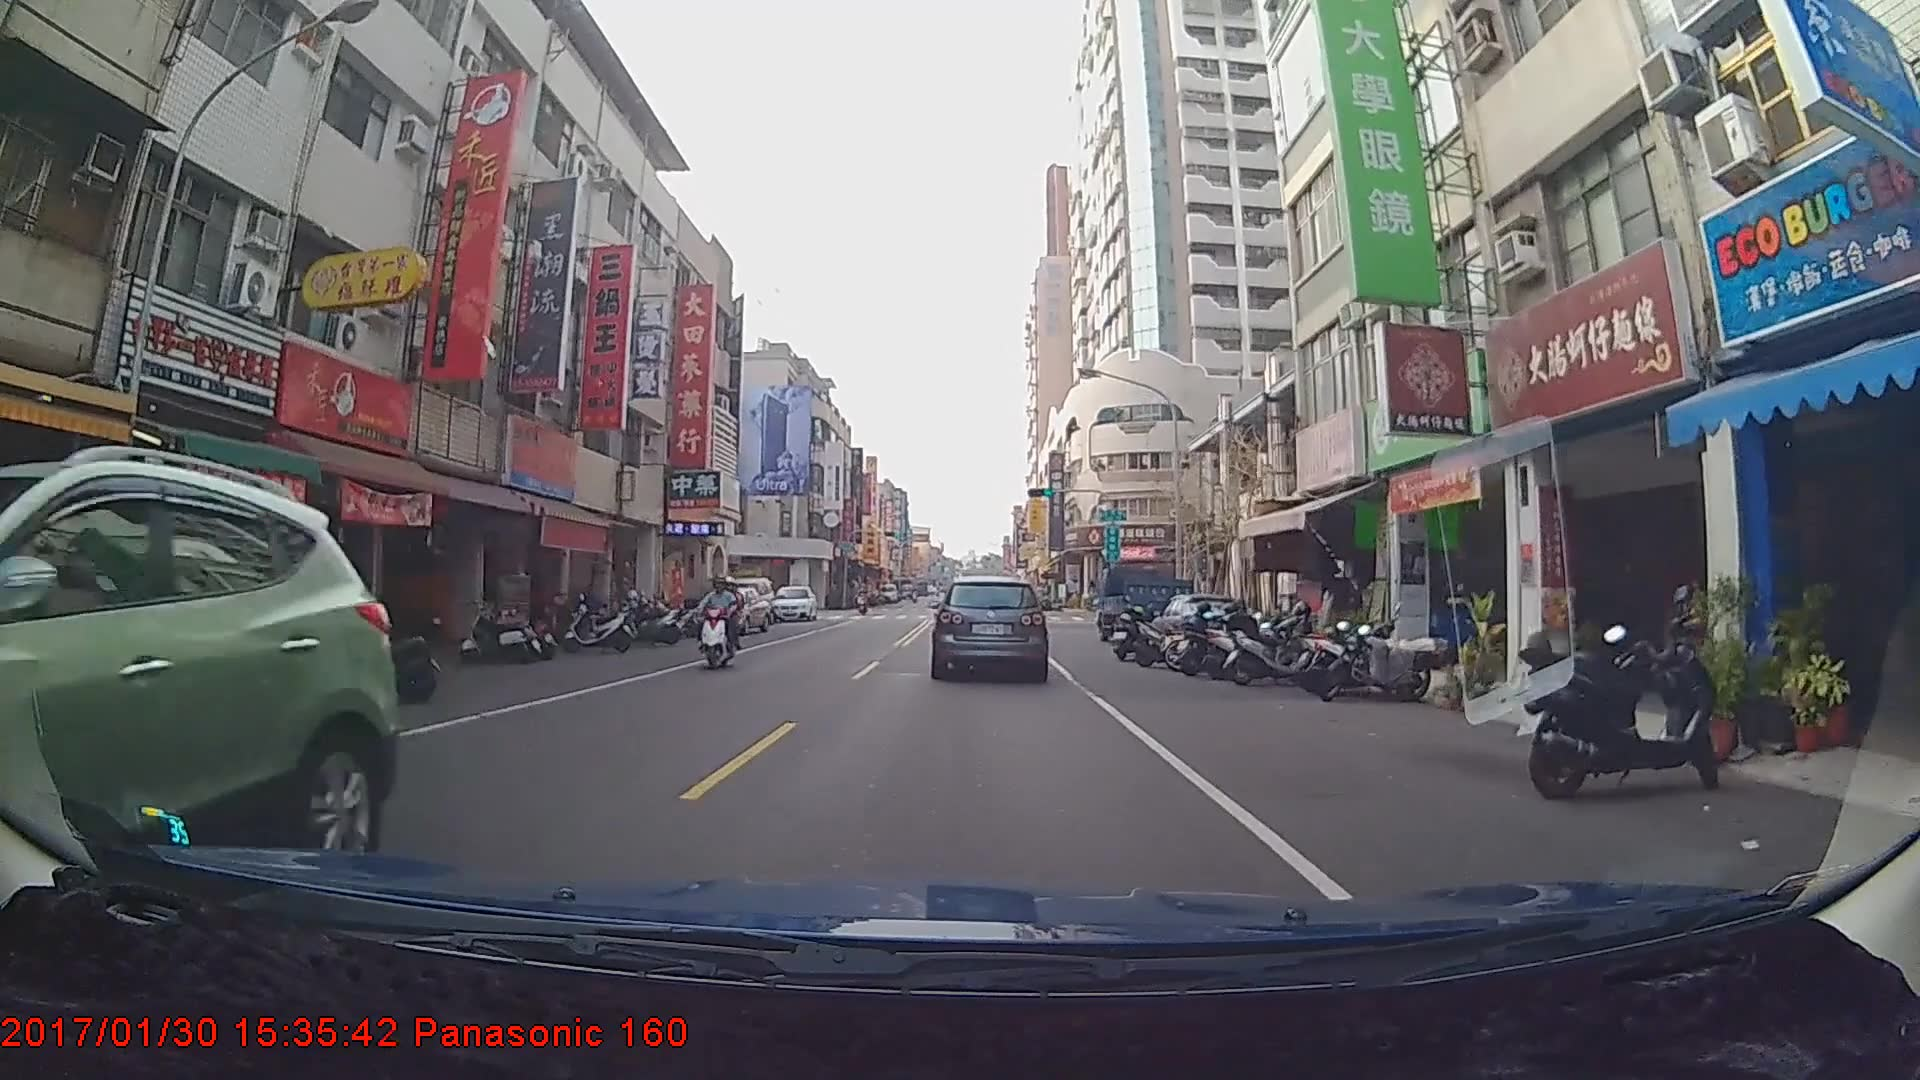rider: (694, 573, 750, 673)
vehicle: (0, 459, 399, 908), (932, 574, 1047, 678), (1093, 563, 1197, 645), (689, 584, 771, 636), (768, 585, 816, 625)
